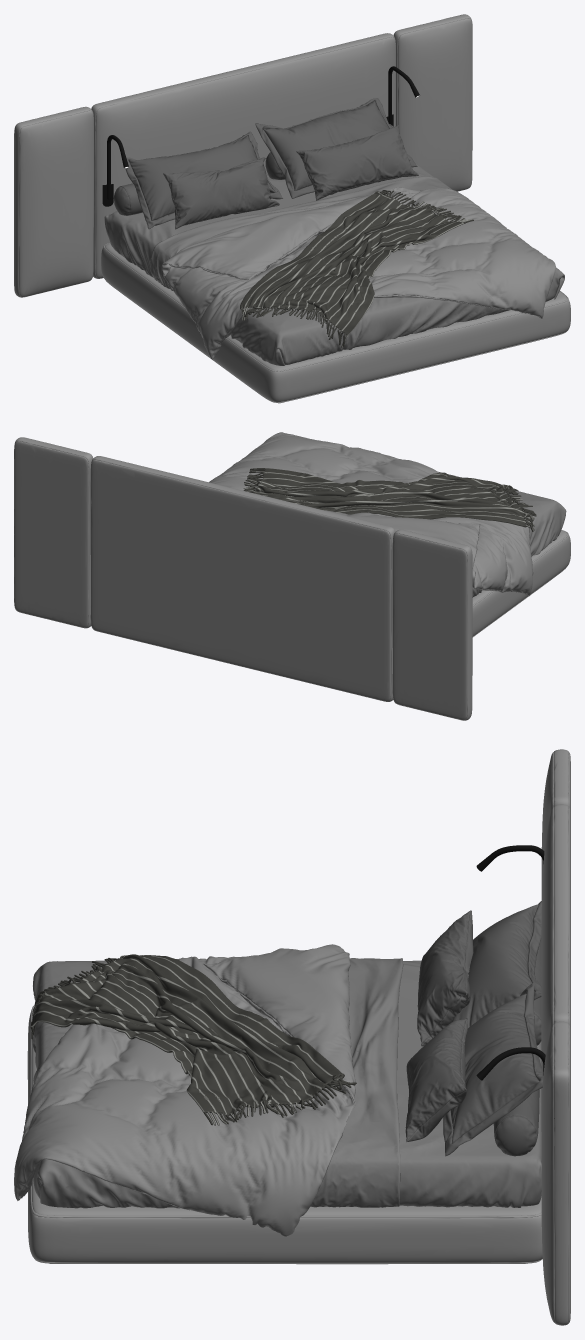
Rendered from double_bed.glb.
The picture shows the model from 3 angles, top to bottom: view 1: azimuth 30°, elevation 25°; view 2: azimuth 150°, elevation 25°; view 3: azimuth 270°, elevation 25°; orthographic projection. The views are drawn at different scales.
Visible parts, largest first — view 1: Box008_14 - Defaultdfgg_0, Object024_16 - Defaultggg_0, Obj3d66-1167104-44-420_11 - Default_0, Obj3d66-1167104-43-803_10 - Defaultsa_0, Obj3d66-1167104-42-285_22 - Defaultsa_0, Line002_12 - Defaultsff_0; view 2: Box008_14 - Defaultdfgg_0, Object024_16 - Defaultggg_0, Obj3d66-1167104-42-285_22 - Defaultsa_0, Obj3d66-1167104-43-803_10 - Defaultsa_0; view 3: Object024_16 - Defaultggg_0, Box008_14 - Defaultdfgg_0, Obj3d66-1167104-43-803_10 - Defaultsa_0, Obj3d66-1167104-44-420_11 - Default_0, Obj3d66-1167104-42-285_22 - Defaultsa_0, Line002_12 - Defaultsff_0.
Part boxes in pixels (x1,y1,x2,y2): Box008_14 - Defaultdfgg_0: [14, 14, 570, 402]; Object024_16 - Defaultggg_0: [162, 187, 555, 359]; Obj3d66-1167104-44-420_11 - Default_0: [113, 98, 418, 229]; Obj3d66-1167104-43-803_10 - Defaultsa_0: [104, 164, 564, 365]; Obj3d66-1167104-42-285_22 - Defaultsa_0: [240, 190, 473, 347]; Line002_12 - Defaultsff_0: [102, 66, 419, 206]; Box008_14 - Defaultdfgg_0: [14, 437, 570, 720]; Object024_16 - Defaultggg_0: [209, 432, 533, 596]; Obj3d66-1167104-42-285_22 - Defaultsa_0: [243, 468, 536, 531]; Obj3d66-1167104-43-803_10 - Defaultsa_0: [439, 472, 566, 597]; Object024_16 - Defaultggg_0: [14, 944, 355, 1236]; Box008_14 - Defaultdfgg_0: [27, 749, 570, 1325]; Obj3d66-1167104-43-803_10 - Defaultsa_0: [32, 958, 541, 1208]; Obj3d66-1167104-44-420_11 - Default_0: [405, 901, 542, 1156]; Obj3d66-1167104-42-285_22 - Defaultsa_0: [30, 954, 356, 1125]; Line002_12 - Defaultsff_0: [476, 845, 545, 1080].
Bounding box in the file's own units: 3.06 × 1.11 × 2.2.
Materials: 8 (1 with a texture image).
